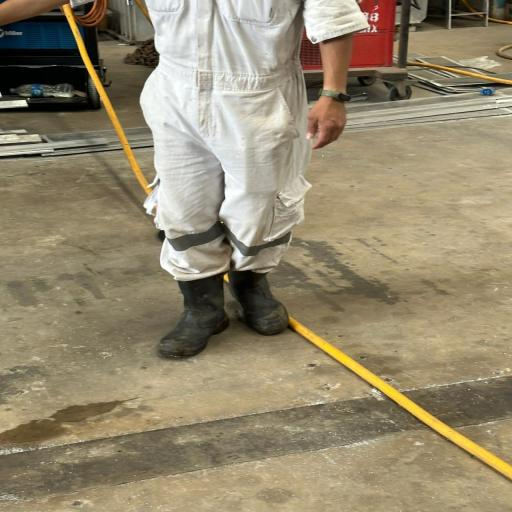safety_shoe: (151, 272, 236, 360), (231, 265, 292, 341)
